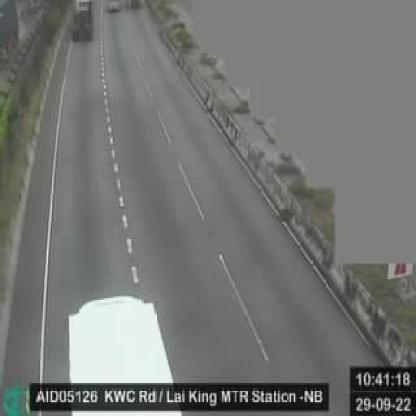Car: (107, 0, 121, 19), (126, 0, 143, 7)
Truck: (50, 291, 188, 414), (64, 0, 95, 50)
